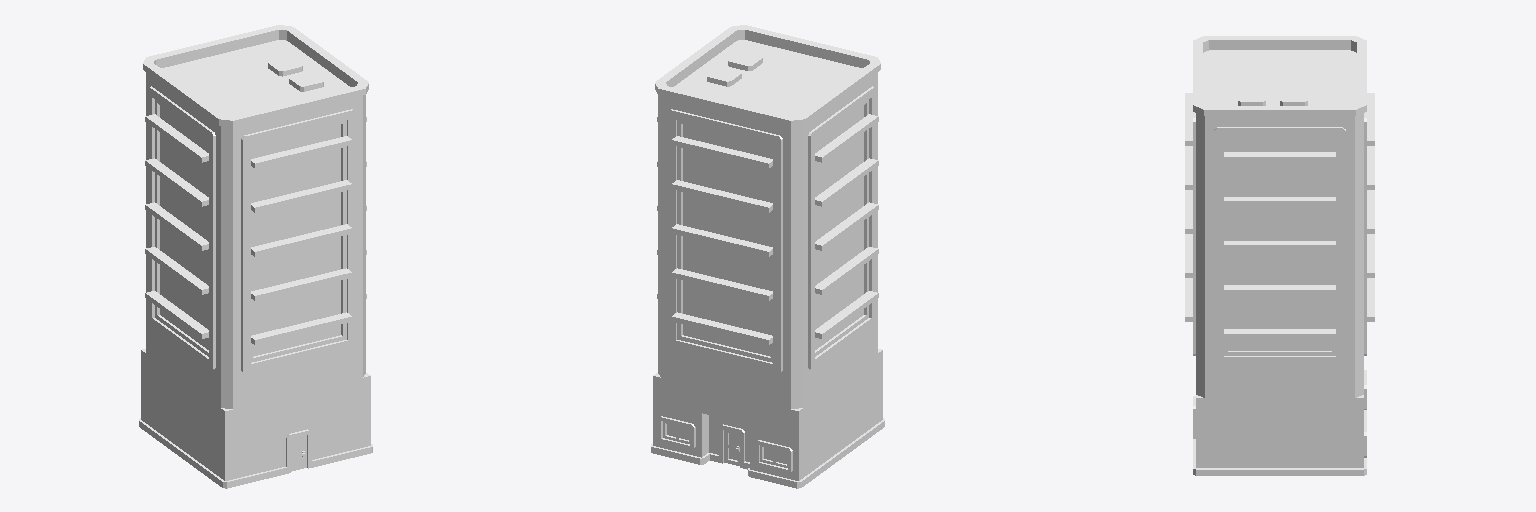
The model's file is commercial_building-skyscraper-a.obj.
3 views of the same model, side by side, from view 1: azimuth 30°, elevation 25°; view 2: azimuth 150°, elevation 25°; view 3: azimuth 270°, elevation 25° (orthographic).
Parts seen in each view (by area): view 1: building-skyscraper-a; view 2: building-skyscraper-a; view 3: building-skyscraper-a.
Boxes of the visible parts, <box> form: building-skyscraper-a: <box>139,25,372,488</box>; building-skyscraper-a: <box>651,25,884,488</box>; building-skyscraper-a: <box>1185,36,1374,475</box>.
Bounding box in the file's own units: 1.36 × 2.88 × 1.36.